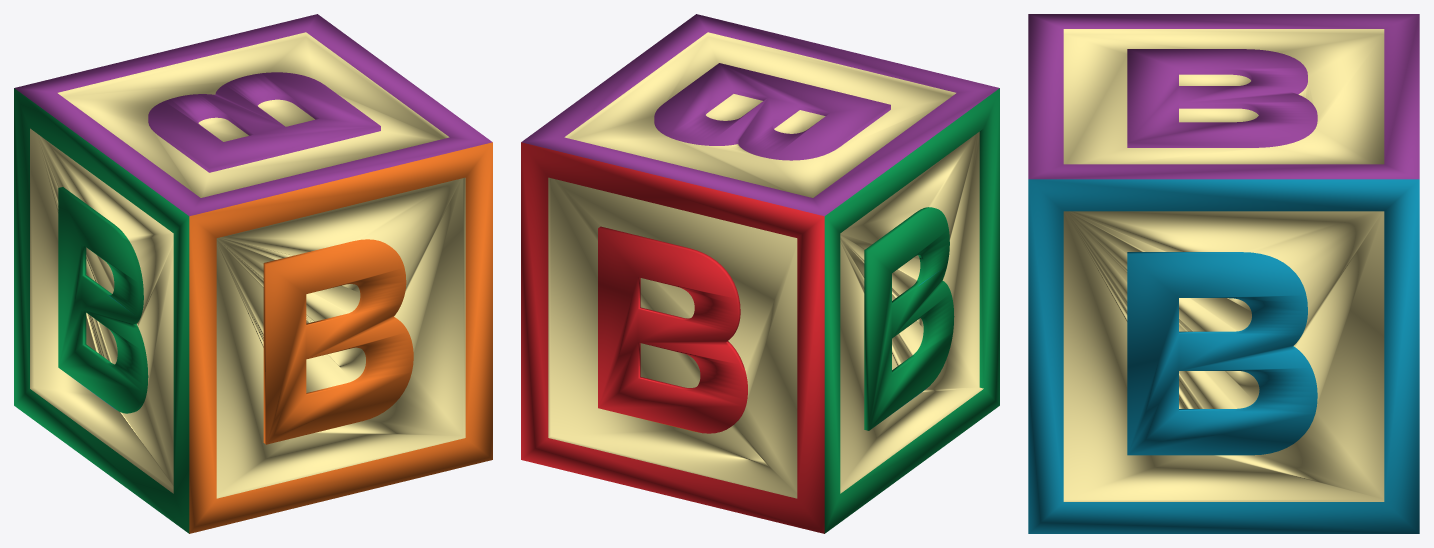
The picture shows the model from 3 angles, left to right: view 1: azimuth 30°, elevation 25°; view 2: azimuth 150°, elevation 25°; view 3: azimuth 270°, elevation 25°; orthographic projection. The views are drawn at different scales.
Visible parts, largest first — view 1: Cube; view 2: Cube; view 3: Cube.
Boxes of the visible parts, x1,y1,x2,y2 form: Cube: (14,14,492,533); Cube: (521,14,999,533); Cube: (1028,14,1419,533).
Size of the model in its own units: 2 by 2 by 2.
